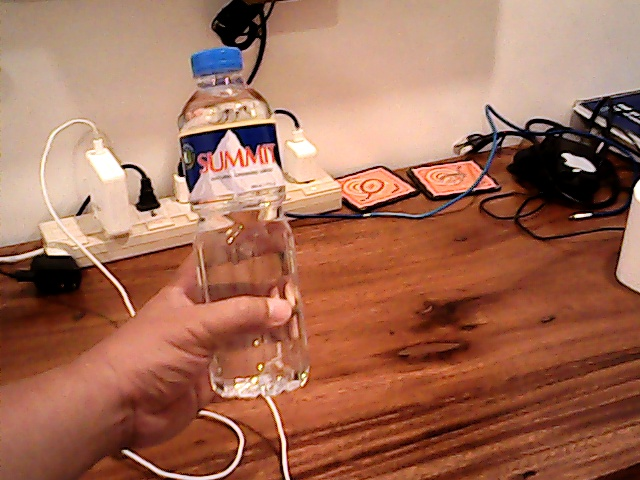Summit Water: (171, 58, 304, 393)
